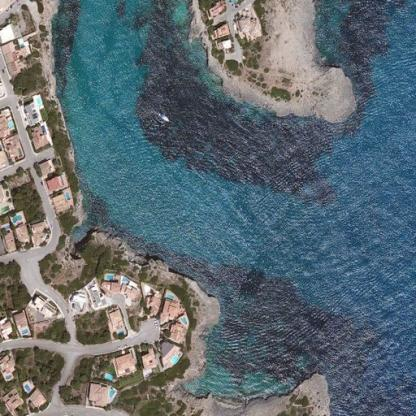ship: (149, 107, 174, 125)
